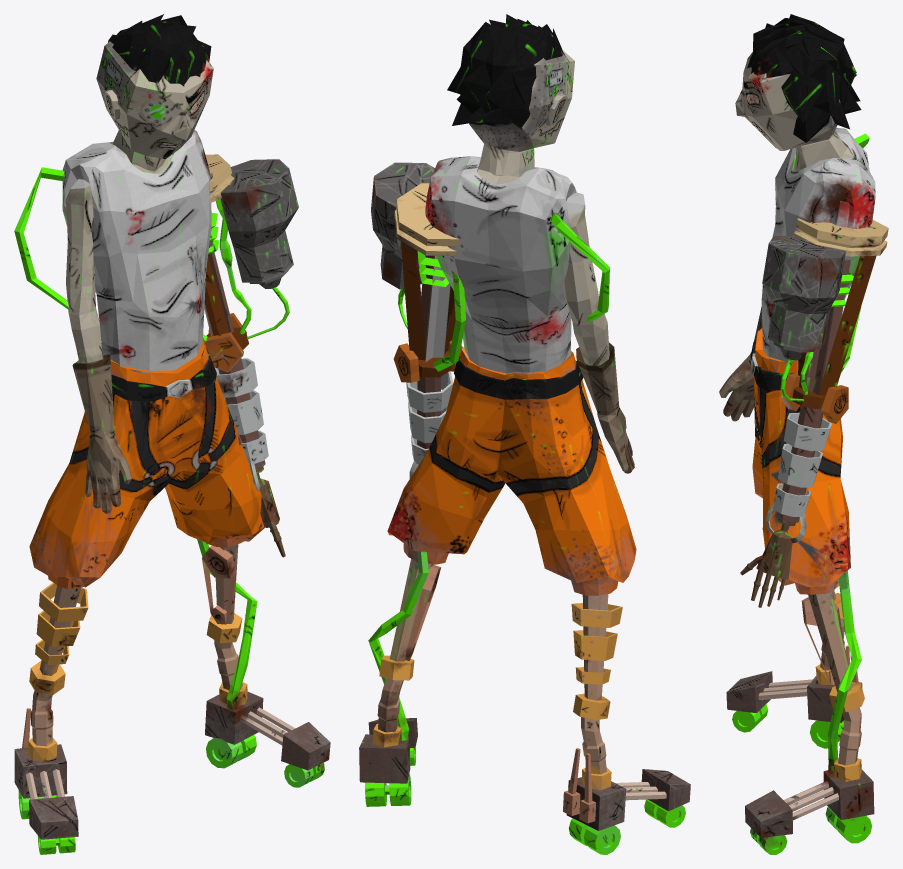
Rendered from CyborgFINALAnimation_000049.obj.
3 views of the same model, side by side, from view 1: azimuth 30°, elevation 25°; view 2: azimuth 150°, elevation 25°; view 3: azimuth 270°, elevation 25° (orthographic). The views are drawn at different scales.
Parts seen in each view (by area): view 1: CyborgMesh_Cube.002; view 2: CyborgMesh_Cube.002; view 3: CyborgMesh_Cube.002.
Boxes of the visible parts, bbox=[...] form: CyborgMesh_Cube.002: bbox=[14, 14, 330, 854]; CyborgMesh_Cube.002: bbox=[359, 14, 690, 854]; CyborgMesh_Cube.002: bbox=[719, 14, 888, 854].
Size of the model in its own units: 3.84 by 9.64 by 1.93.
